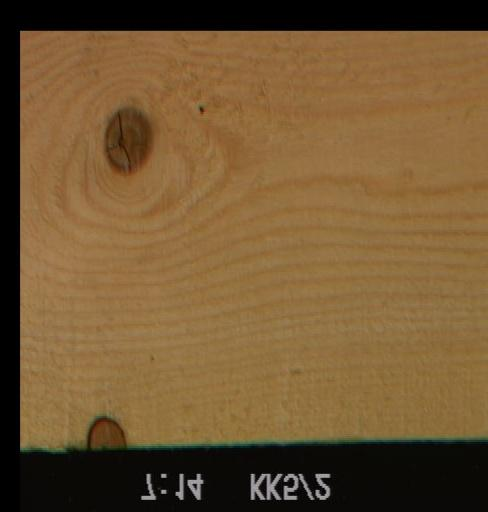sound_knot: (102, 106, 152, 174)
